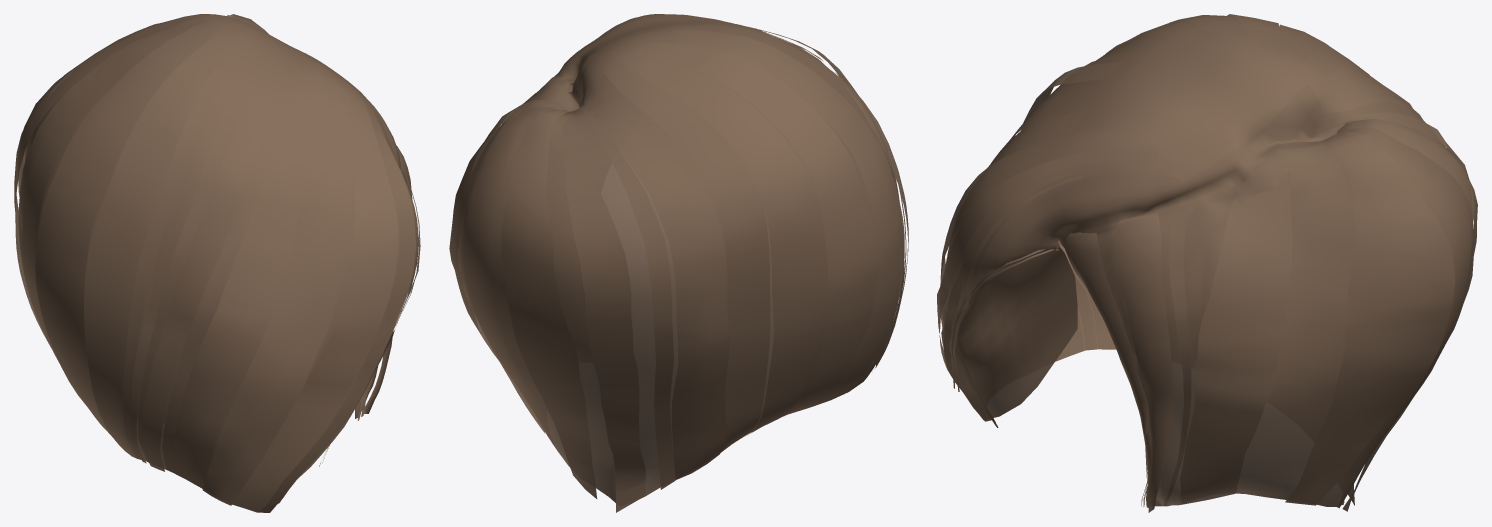
File: bob01.glb
3 views of the same model, side by side, from view 1: azimuth 30°, elevation 25°; view 2: azimuth 150°, elevation 25°; view 3: azimuth 270°, elevation 25° (orthographic). The views are drawn at different scales.
Parts seen in each view (by area): view 1: bob01; view 2: bob01; view 3: bob01.
Part boxes in pixels (left/top/right/bottom): bob01: left=14, top=14, right=420, bottom=512; bob01: left=449, top=14, right=908, bottom=512; bob01: left=937, top=14, right=1477, bottom=512.
Bounding box in the file's own units: 0.2018 × 0.226 × 0.2387.
